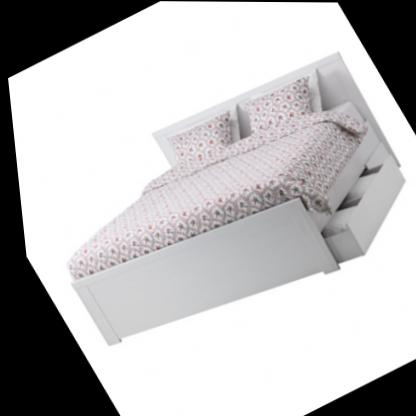Bed: (3, 31, 416, 384)
